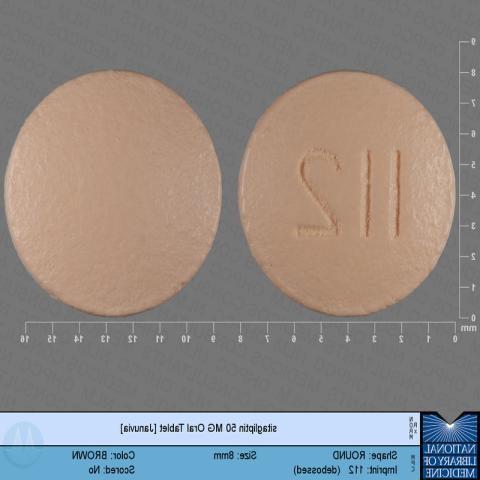Pill: (230, 57, 463, 339), (2, 56, 232, 332)
